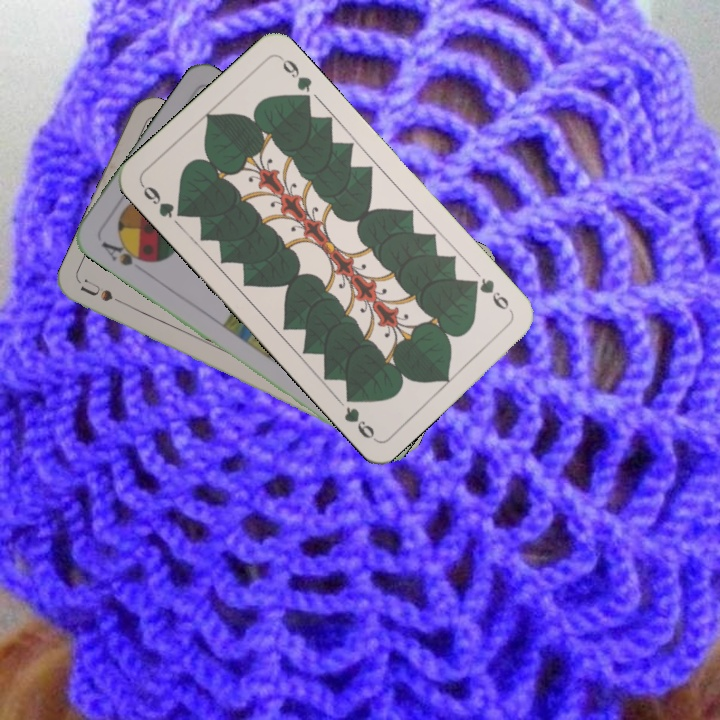G9: (137, 180, 189, 221), (465, 273, 512, 313)
SA: (97, 236, 153, 269)
SU: (77, 276, 135, 312)
